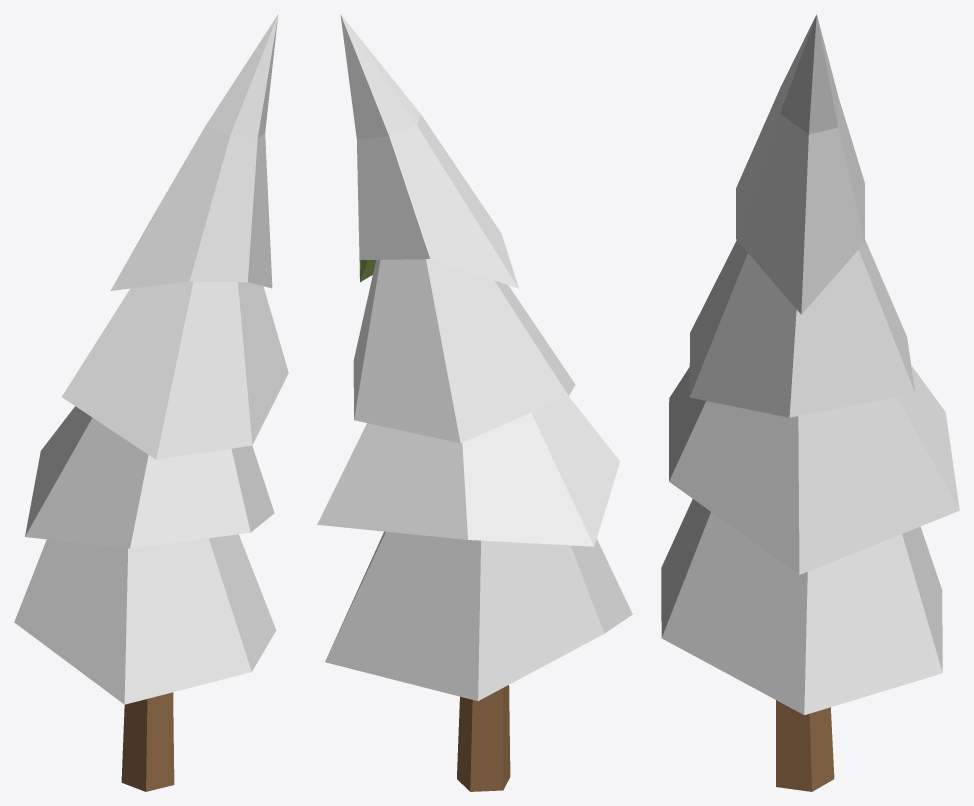
File: Pine_Tree_m_Snow_11.fbx
3 renders of one model, left to right at view 1: azimuth 30°, elevation 25°; view 2: azimuth 150°, elevation 25°; view 3: azimuth 270°, elevation 25°, orthographic. The views are drawn at different scales.
Visible parts, largest first — view 1: Pine_Tree_m_Snow_11; view 2: Pine_Tree_m_Snow_11; view 3: Pine_Tree_m_Snow_11.
Boxes of the visible parts, x1,y1,x2,y2 form: Pine_Tree_m_Snow_11: (14,14,288,791); Pine_Tree_m_Snow_11: (317,14,632,791); Pine_Tree_m_Snow_11: (661,14,959,791).
Bounding box in the file's own units: 217 × 575 × 185.
